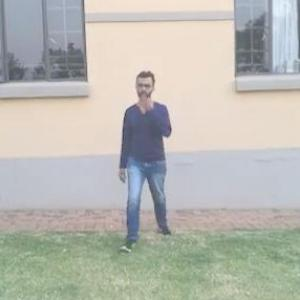follow: (119, 69, 172, 243)
